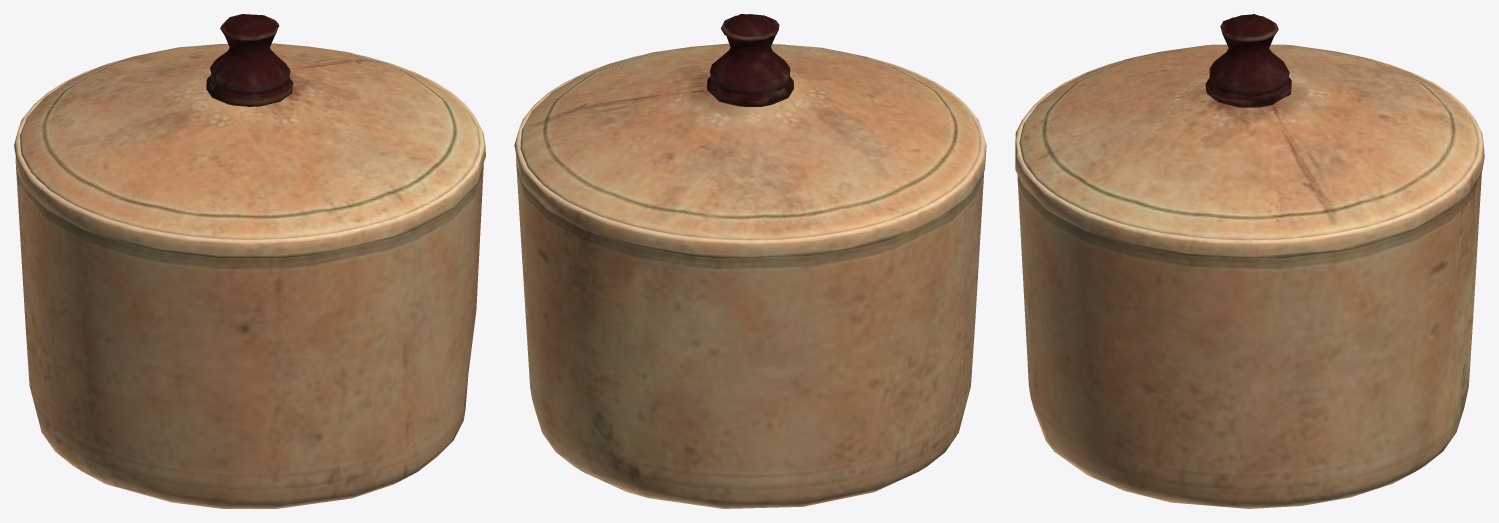
The model's file is brass_pot_01.lod1.glb.
3 renders of one model, left to right at view 1: azimuth 30°, elevation 25°; view 2: azimuth 150°, elevation 25°; view 3: azimuth 270°, elevation 25°, orthographic.
Visible parts, largest first — view 1: brass_pot_01; view 2: brass_pot_01; view 3: brass_pot_01.
Boxes of the visible parts, bbox=[...] form: brass_pot_01: bbox=[14, 14, 485, 508]; brass_pot_01: bbox=[514, 14, 986, 508]; brass_pot_01: bbox=[1015, 14, 1484, 508].
Size of the model in its own units: 0.3007 by 0.2908 by 0.3005.
Materials: 1 (1 with a texture image).
